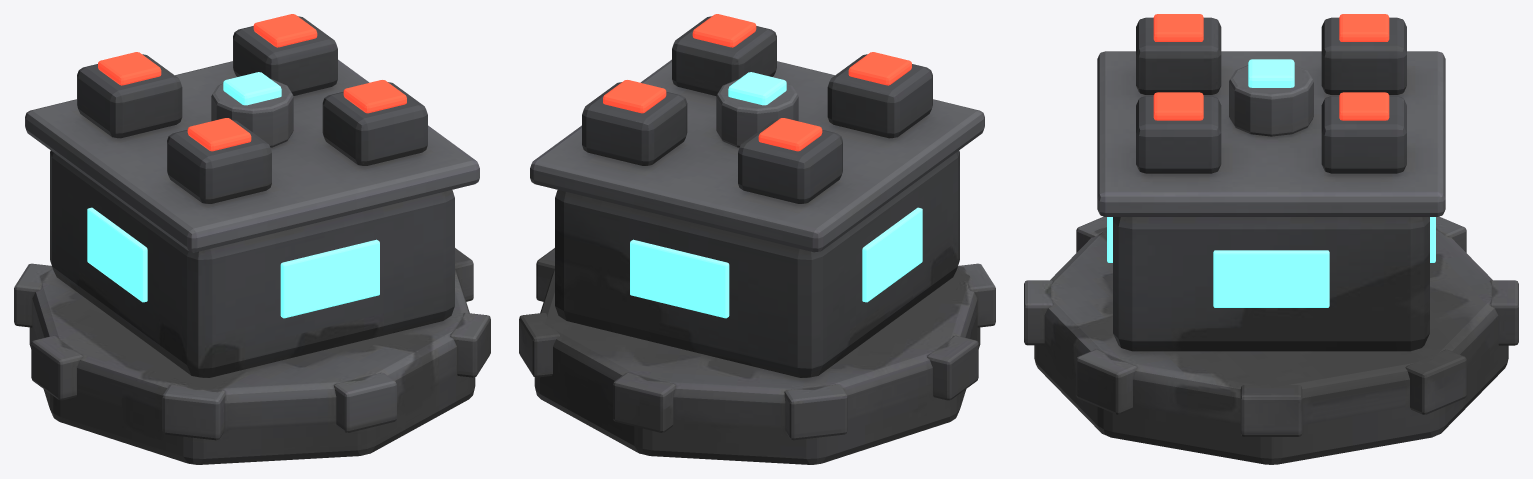
Rendered from turret.glb.
3 views of the same model, side by side, from view 1: azimuth 30°, elevation 25°; view 2: azimuth 150°, elevation 25°; view 3: azimuth 270°, elevation 25° (orthographic). The views are drawn at different scales.
Visible parts, largest first — view 1: caretaker_turret, caretaker_turret_lights; view 2: caretaker_turret, caretaker_turret_lights; view 3: caretaker_turret, caretaker_turret_lights.
Boxes of the visible parts, <box> form: caretaker_turret: <box>14,16,490,464</box>; caretaker_turret_lights: <box>87,14,406,318</box>; caretaker_turret: <box>519,16,995,464</box>; caretaker_turret_lights: <box>603,14,922,318</box>; caretaker_turret: <box>1024,17,1518,464</box>; caretaker_turret_lights: <box>1107,14,1435,307</box>.
Bounding box in the file's own units: 1.28 × 0.875 × 1.28.
Materials: 3 (1 with a texture image).
